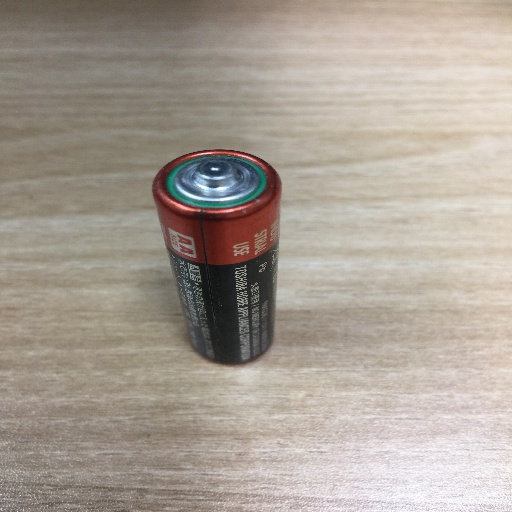Battery_0: (142, 135, 299, 377)
